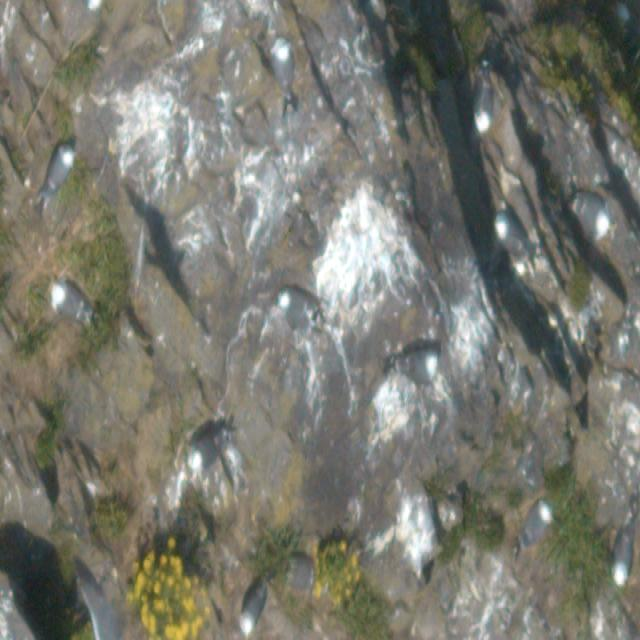umineko: (570, 186, 611, 240), (186, 423, 229, 472), (492, 213, 530, 261), (269, 34, 295, 95), (474, 61, 493, 132), (523, 501, 552, 544), (46, 148, 74, 192), (242, 586, 266, 632), (54, 287, 88, 319), (394, 353, 435, 377), (614, 538, 632, 581), (278, 292, 312, 312)
